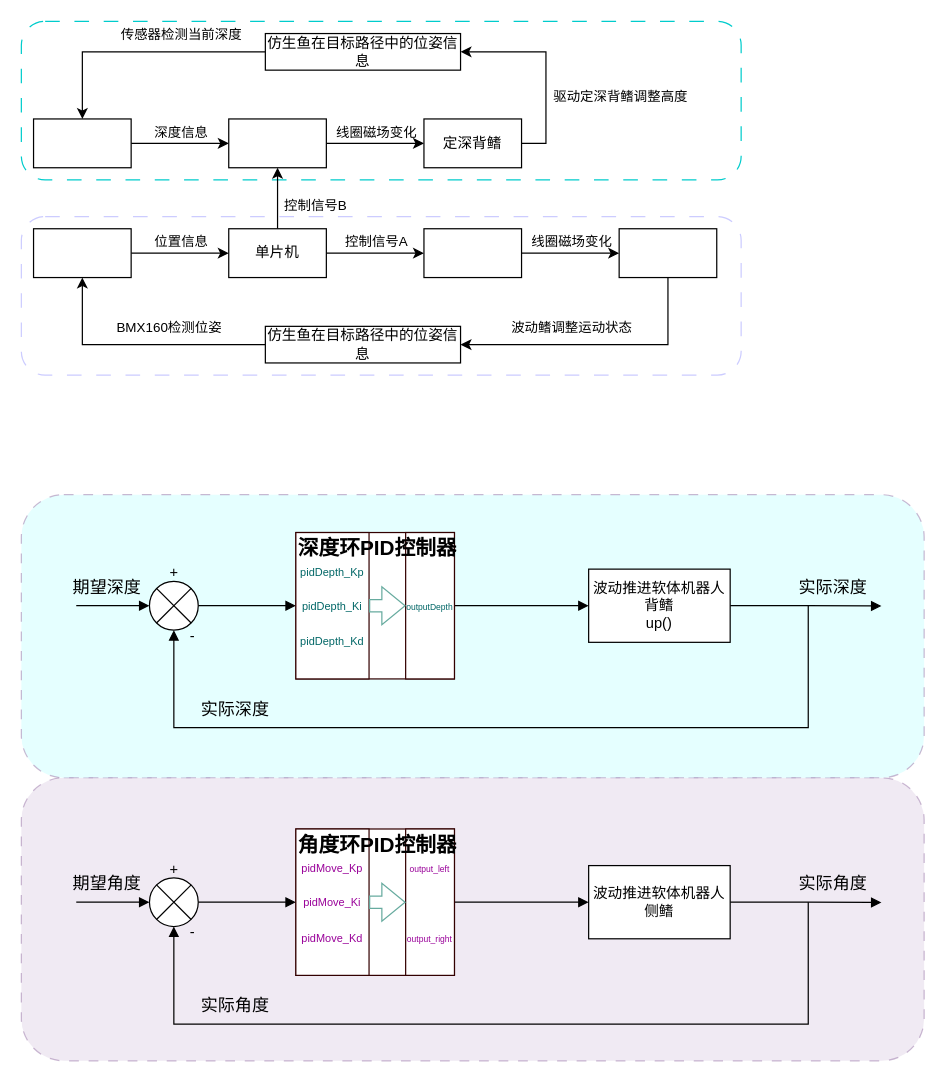
Some shapes in this 946 by 1082 pixel diagram are drawn without their labels. The centre of each missing label's shape, as x and y in pixels:
定深驱动单元: the point at 277,143
水深压力传感器MS5837-30BA: the point at 81,143
波动鳍: the point at 667,253
陀螺仪 BMX160: the point at 81,253
驱动阵列: the point at 472,253
